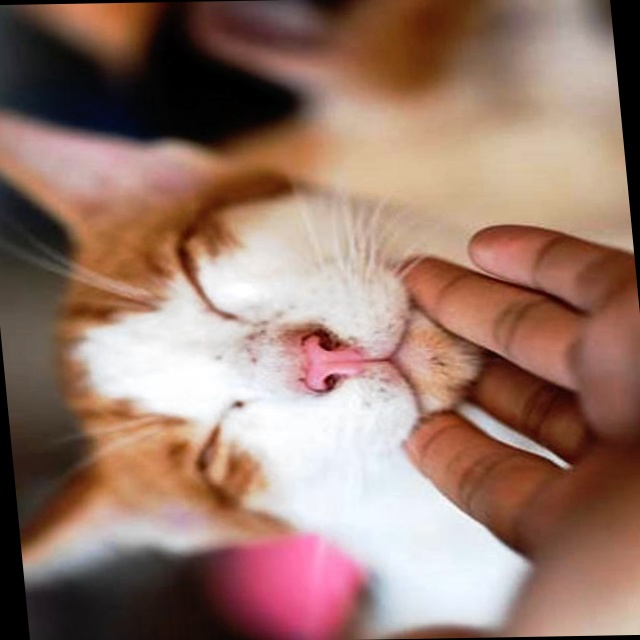acne: (200, 301, 297, 368)
